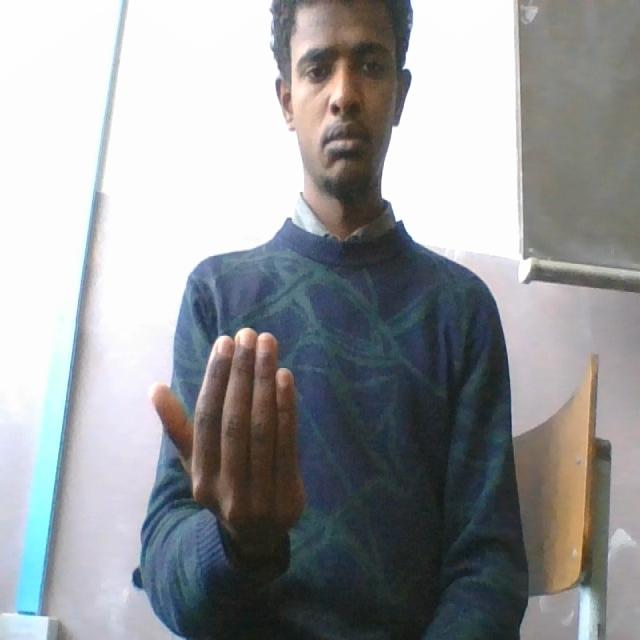na: (151, 324, 310, 558)
